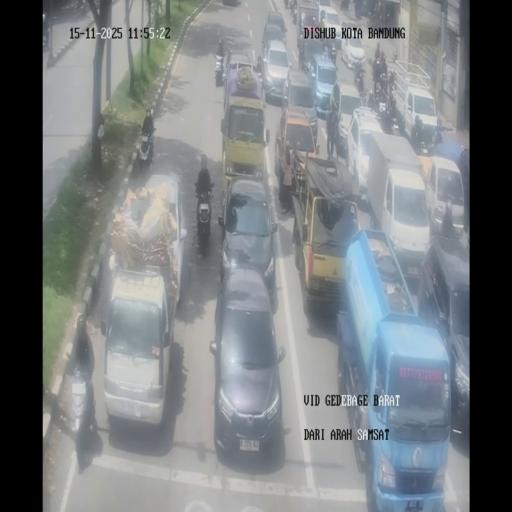car: (209, 269, 285, 465), (102, 267, 174, 431), (416, 235, 469, 442), (218, 177, 278, 296), (136, 173, 189, 305), (274, 106, 318, 204), (424, 154, 466, 238), (331, 80, 365, 157), (308, 53, 338, 118), (262, 39, 292, 101), (317, 3, 343, 51), (340, 33, 365, 71), (264, 10, 286, 42), (42, 13, 49, 47), (317, 0, 331, 10)
motorcycle: (74, 356, 98, 464), (193, 186, 214, 254), (137, 123, 156, 172), (373, 79, 391, 115), (412, 120, 432, 151), (390, 102, 406, 136), (95, 110, 105, 152), (214, 50, 225, 86), (355, 66, 366, 98), (432, 117, 443, 144), (372, 54, 382, 81), (254, 60, 264, 85), (387, 66, 395, 96), (372, 0, 382, 22), (330, 39, 338, 62), (367, 89, 375, 112), (76, 0, 86, 13), (292, 2, 298, 23), (284, 0, 290, 9)
truck: (291, 155, 360, 316), (361, 133, 428, 274), (221, 54, 266, 197), (296, 0, 320, 51)
